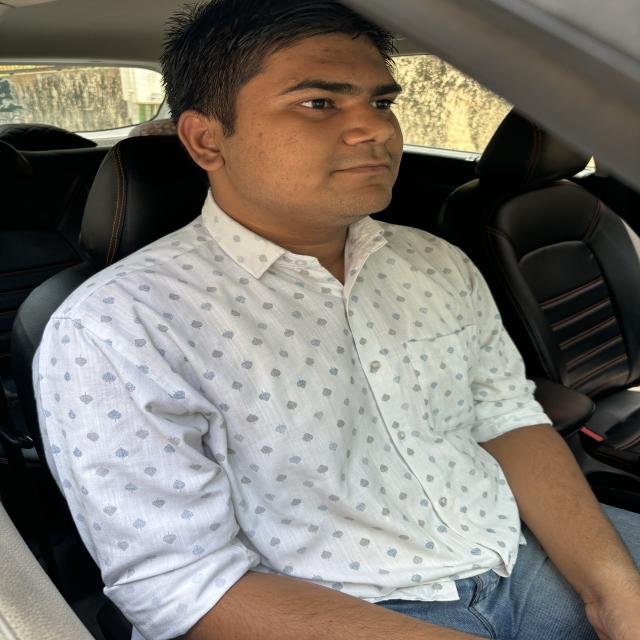no-seatbelt: (12, 260, 583, 559)
